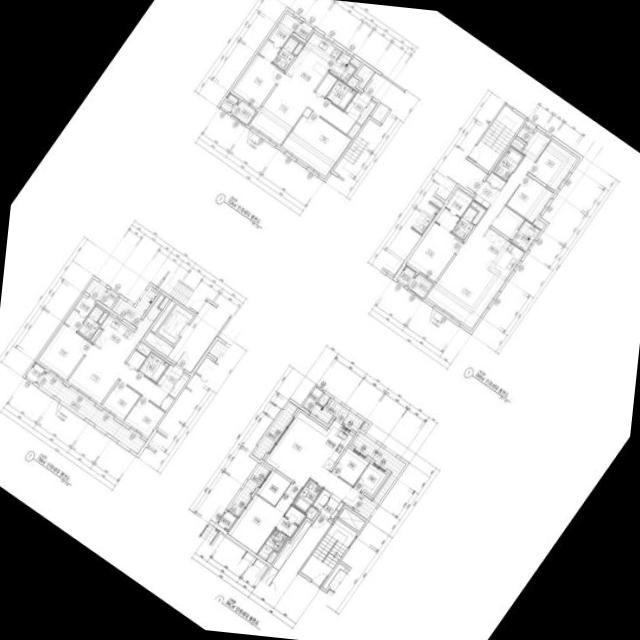background: (0, 0, 640, 640)
space_balconi: (35, 371, 145, 454), (352, 432, 405, 520), (251, 401, 297, 460), (227, 464, 268, 516), (110, 285, 158, 326), (310, 398, 363, 432), (510, 220, 539, 251), (329, 52, 355, 83), (406, 274, 432, 298), (230, 101, 255, 124)
space_bedroom: (227, 483, 301, 554), (281, 112, 350, 176), (406, 222, 462, 281), (38, 324, 91, 380), (232, 54, 283, 109), (528, 140, 577, 191), (506, 175, 552, 223), (124, 396, 164, 437), (102, 381, 140, 420), (331, 448, 368, 486), (353, 463, 386, 495)
space_dressroom: (258, 13, 299, 62), (435, 189, 472, 231), (64, 296, 94, 331), (275, 506, 305, 537)
space_elevator: (156, 304, 193, 344)
space_elevator_hall: (167, 301, 228, 372)
space_front: (343, 91, 375, 125), (156, 364, 183, 393), (472, 181, 499, 209), (320, 493, 344, 519)
space_kitchen: (94, 295, 164, 362), (285, 32, 341, 91), (468, 228, 524, 281), (308, 420, 353, 471)
space_living_room: (426, 131, 550, 328), (264, 411, 361, 507), (249, 73, 355, 145), (67, 342, 168, 407)
space_multipurpose_space: (256, 470, 290, 506)
space_other: (271, 520, 311, 571), (491, 206, 524, 239), (84, 278, 118, 308), (150, 300, 175, 332), (143, 331, 173, 357), (338, 508, 365, 531), (315, 73, 337, 97), (301, 387, 322, 411), (355, 64, 374, 89), (169, 374, 188, 398), (516, 121, 535, 143), (126, 350, 145, 370), (312, 489, 330, 510), (470, 201, 485, 225), (486, 172, 505, 190), (293, 22, 312, 40), (371, 103, 389, 122), (159, 396, 173, 411), (347, 123, 360, 138), (136, 343, 150, 356), (317, 393, 329, 406), (305, 506, 317, 519), (511, 138, 524, 150), (90, 328, 101, 342), (292, 43, 303, 55), (346, 77, 357, 88), (97, 312, 107, 324), (266, 551, 276, 563), (158, 298, 168, 309), (349, 58, 359, 68), (532, 220, 543, 229), (360, 422, 368, 431)
space_outdoor_room: (217, 511, 236, 531), (396, 266, 415, 286), (219, 93, 238, 112)
space_staircase: (468, 105, 525, 171), (300, 520, 356, 586)
space_toilet: (292, 479, 322, 513), (256, 528, 287, 560), (493, 147, 523, 180), (138, 352, 168, 383), (77, 305, 103, 340), (272, 36, 298, 71), (325, 80, 355, 110), (451, 206, 477, 240)
